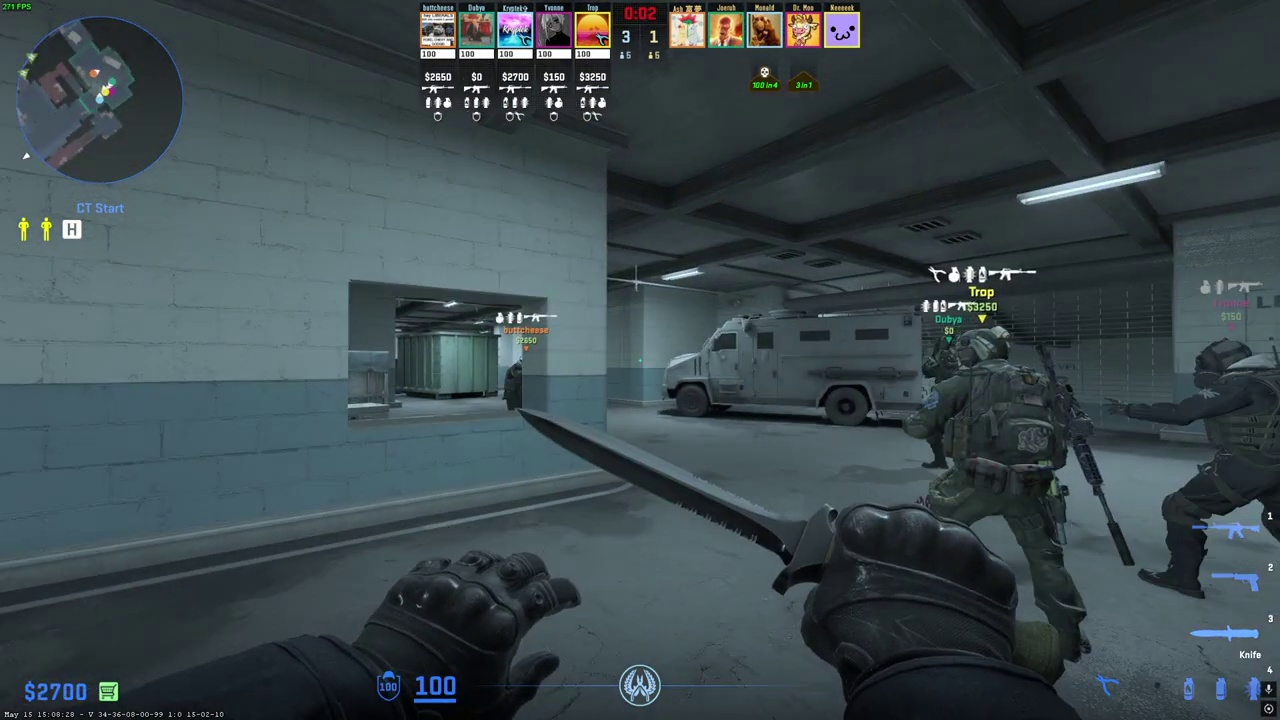CT: (921, 326, 1085, 650), (1153, 336, 1280, 599), (923, 335, 956, 461), (505, 350, 525, 411)
